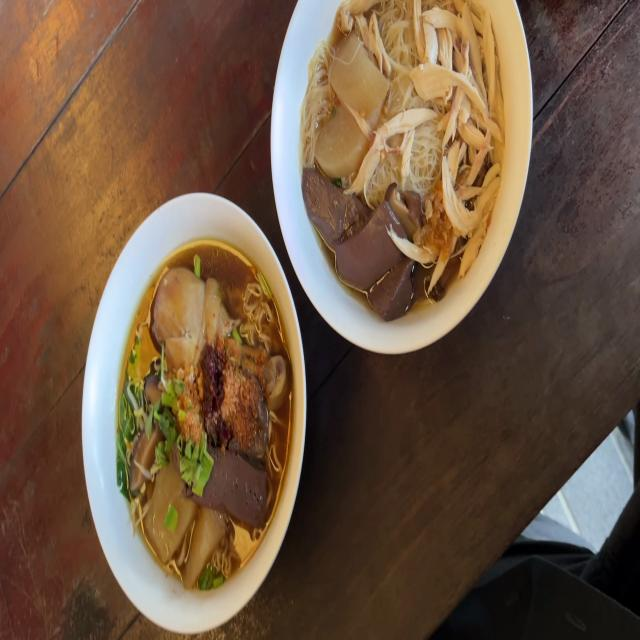noodle: (297, 0, 511, 314), (106, 250, 299, 582)
